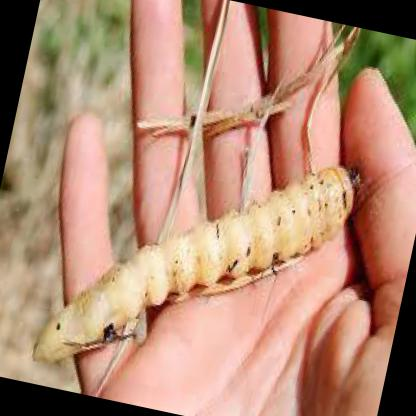root grubs: (28, 168, 357, 363)
